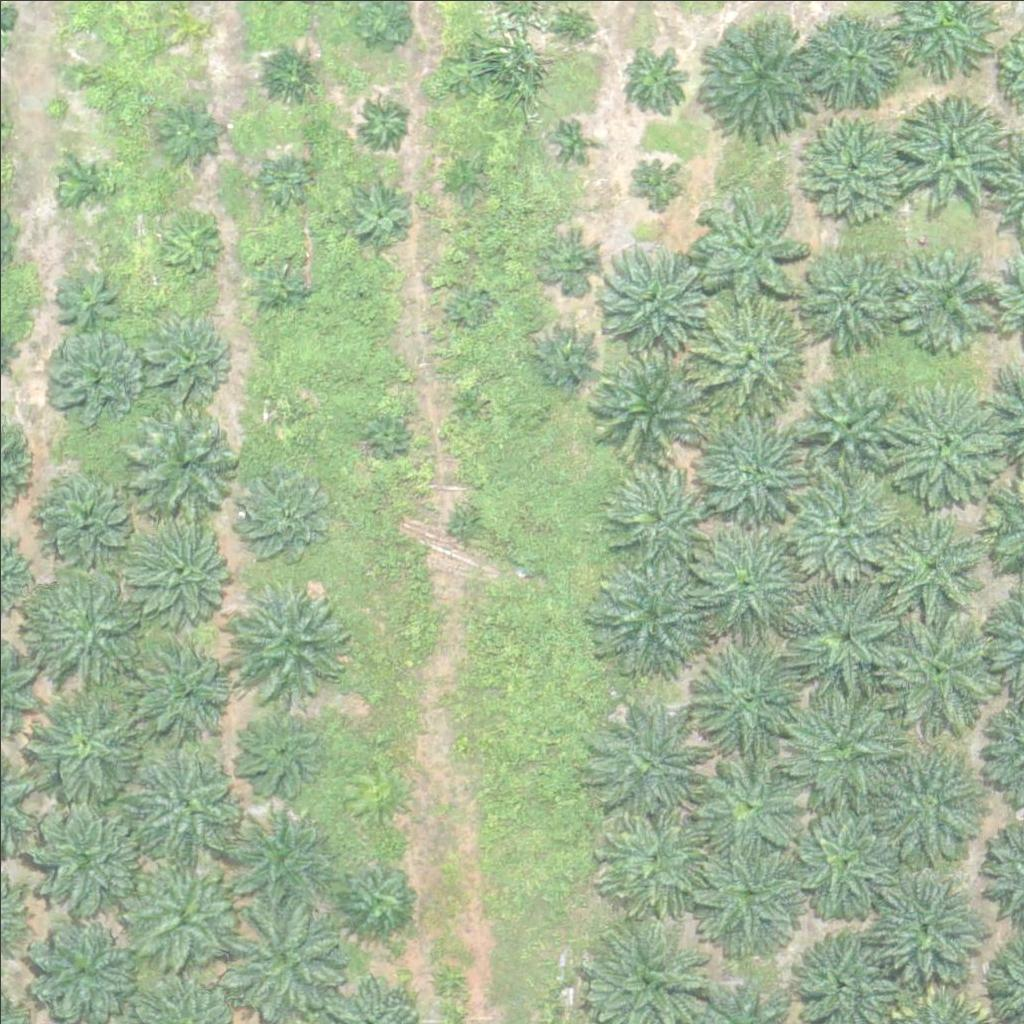Kelapa_Sawit: (685, 832, 810, 958), (778, 796, 903, 922), (591, 794, 716, 920), (877, 604, 1002, 730), (870, 736, 995, 862), (865, 864, 990, 990), (781, 673, 906, 799), (787, 570, 912, 696), (779, 448, 904, 574), (692, 397, 817, 523), (684, 511, 809, 637), (689, 632, 814, 758), (587, 694, 712, 820), (591, 549, 716, 675), (580, 329, 705, 455), (231, 578, 356, 704), (886, 90, 1011, 216), (879, 378, 1004, 503), (19, 564, 144, 689), (690, 10, 815, 135), (132, 408, 245, 521), (28, 803, 141, 916), (28, 690, 141, 803), (690, 195, 803, 308), (801, 109, 914, 222), (124, 852, 236, 965), (223, 801, 335, 914), (128, 745, 240, 858), (126, 512, 238, 625), (594, 235, 706, 348), (690, 300, 802, 413), (879, 511, 979, 612), (605, 459, 705, 560), (235, 464, 335, 565), (132, 636, 232, 737), (34, 464, 134, 565), (39, 329, 139, 430), (804, 10, 904, 111), (798, 245, 898, 346), (899, 246, 999, 347), (698, 750, 798, 850), (807, 375, 894, 464), (236, 712, 323, 800), (139, 309, 226, 397), (339, 859, 414, 935), (616, 44, 691, 119), (541, 229, 604, 292), (531, 327, 594, 390), (157, 99, 220, 162), (258, 44, 321, 107), (248, 254, 311, 317), (352, 185, 414, 248), (56, 272, 118, 335), (158, 209, 220, 272), (627, 151, 677, 202), (62, 161, 112, 212), (439, 42, 489, 93), (357, 96, 407, 146), (263, 155, 313, 205), (451, 288, 489, 326), (447, 386, 485, 424), (446, 505, 484, 543), (444, 162, 482, 200), (261, 393, 299, 430), (366, 412, 403, 450), (554, 118, 591, 155), (550, 8, 587, 45), (69, 66, 94, 91), (174, 12, 199, 37), (347, 275, 372, 300)
